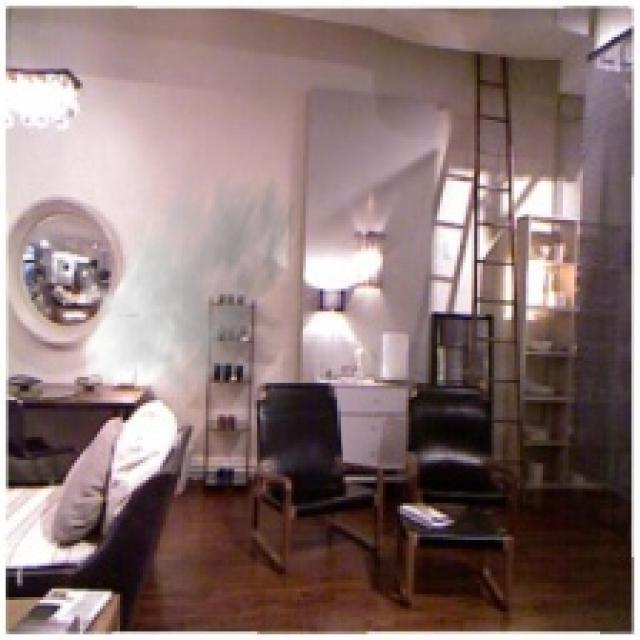smoke: (77, 154, 297, 400)
